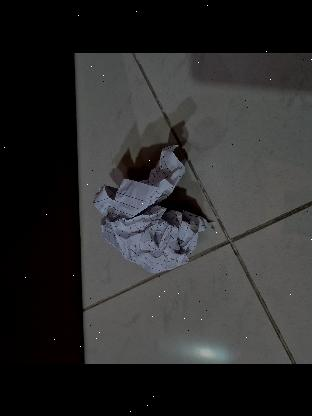Others: (91, 142, 212, 272)
